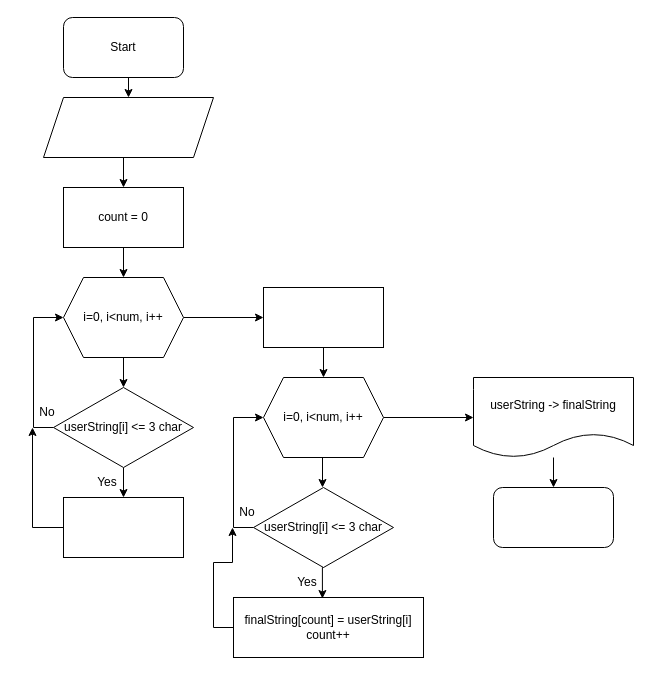
This 651x675 diagram has some shape labels left out. The centre of each missing label's shape, as x and y in pixels:
count = ++: the point at 123,527
End: the point at 553,517
finalString[count]: the point at 323,317
num userString[num]: the point at 128,127
